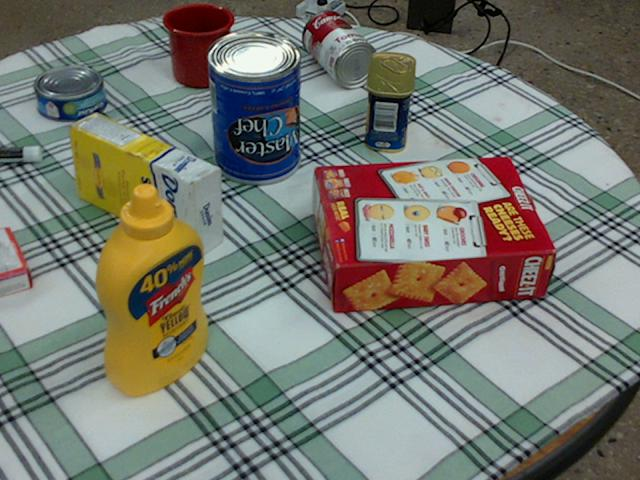cracker_box: (314, 156, 555, 313)
gelatin_box: (0, 227, 33, 296)
large_marker: (0, 146, 41, 162)
master_chef_can: (205, 31, 298, 184)
mug: (164, 3, 235, 86)
mustard_bottle: (94, 183, 207, 393)
potted_meat_can: (364, 52, 413, 152)
sugar_box: (68, 112, 221, 256)
tomato_soup_can: (302, 10, 377, 86)
tuna_fish_can: (34, 65, 106, 120)
